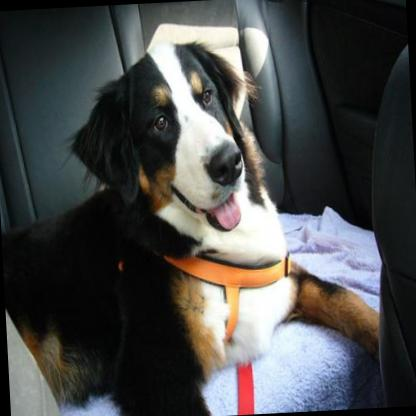Bernese_mountain_dog: (0, 31, 383, 416)
